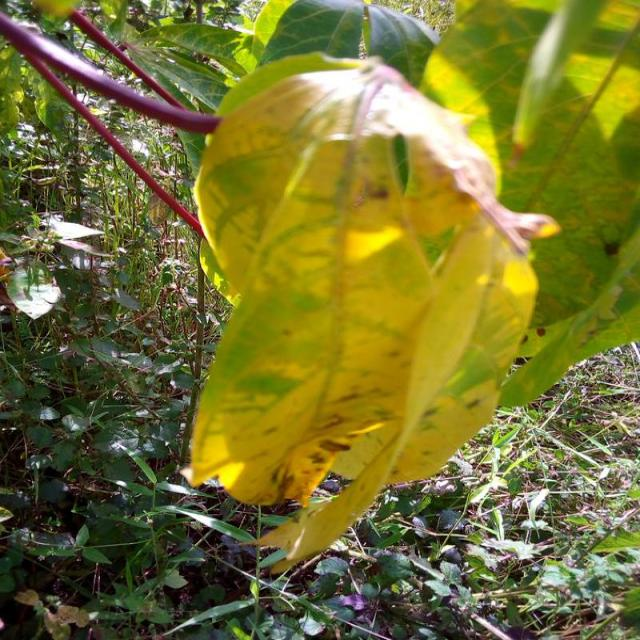cassava leaf: (182, 54, 550, 574), (417, 0, 638, 409)
